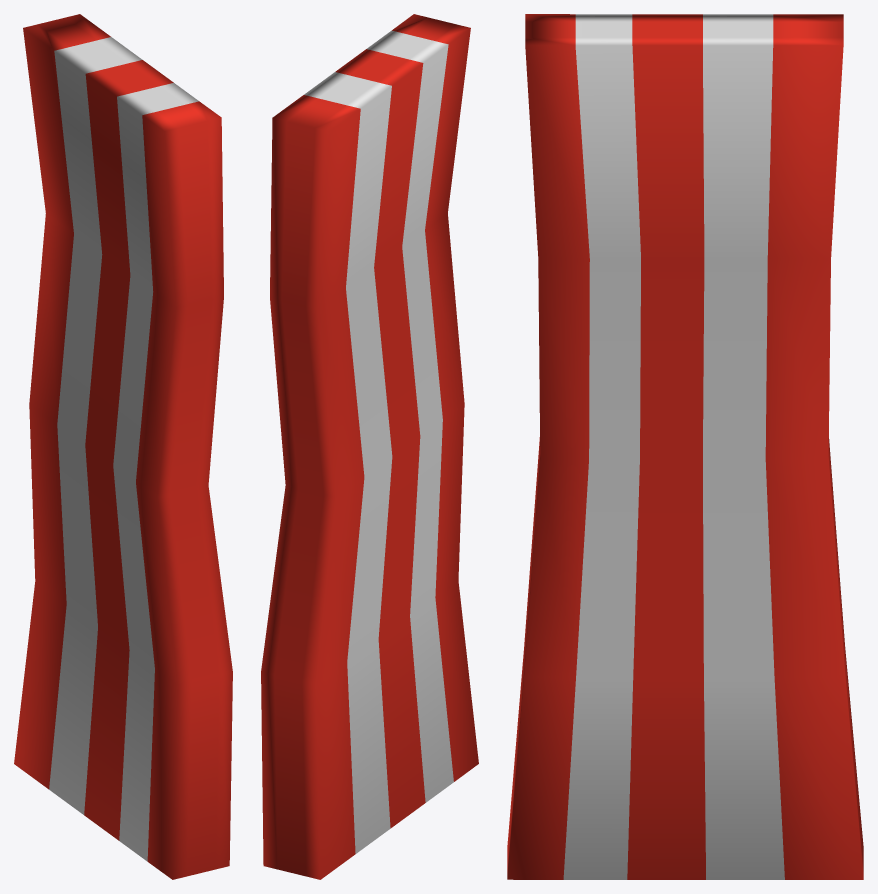
The model's file is _acon.fbx.
3 renders of one model, left to right at view 1: azimuth 30°, elevation 25°; view 2: azimuth 150°, elevation 25°; view 3: azimuth 270°, elevation 25°, orthographic. The views are drawn at different scales.
Visible parts, largest first — view 1: Cube; view 2: Cube; view 3: Cube.
Part boxes in pixels (x1,y1,x2,y2): Cube: [14, 14, 232, 879]; Cube: [261, 14, 478, 879]; Cube: [507, 14, 863, 879].
Size of the model in its own units: 14.57 by 152 by 58.72.
